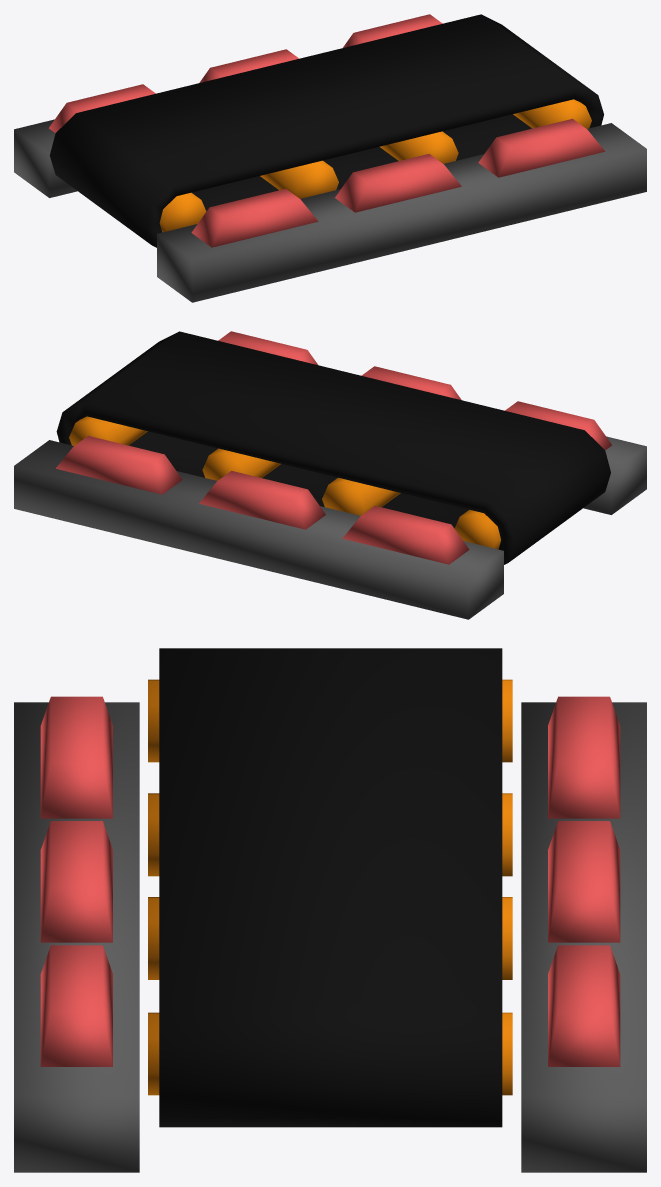
The model's file is Conveyor_Large.fbx.
3 renders of one model, top to bottom at view 1: azimuth 30°, elevation 25°; view 2: azimuth 150°, elevation 25°; view 3: azimuth 270°, elevation 25°, orthographic. The views are drawn at different scales.
Parts seen in each view (by area): view 1: Plane.004, Conveyor_Side; view 2: Plane.004, Conveyor_Side; view 3: Plane.004, Conveyor_Side.
Part boxes in pixels (x1,y1,x2,y2): Plane.004: (49, 14, 603, 247); Conveyor_Side: (14, 14, 646, 302); Plane.004: (56, 331, 610, 564); Conveyor_Side: (14, 331, 646, 619); Plane.004: (148, 648, 512, 1127); Conveyor_Side: (14, 696, 646, 1172).
Bounding box in the file's own units: 551 × 95.85 × 370.
